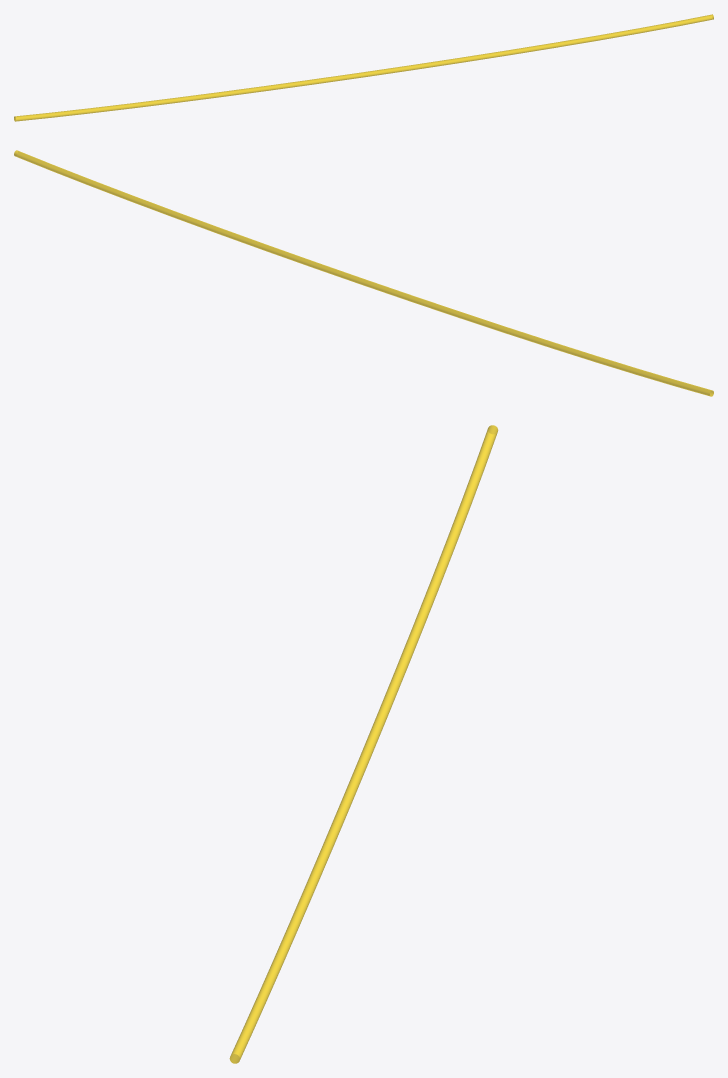
Rendered from Event_84804159_track_57.fbx.
3 renders of one model, top to bottom at view 1: azimuth 30°, elevation 25°; view 2: azimuth 150°, elevation 25°; view 3: azimuth 270°, elevation 25°, orthographic. The views are drawn at different scales.
Parts seen in each view (by area): view 1: Model; view 2: Model; view 3: Model.
Part boxes in pixels (x1,y1,x2,y2): Model: (14,14,713,121); Model: (14,150,713,396); Model: (229,425,498,1063).
Size of the model in its own units: 5.56 by 0.1236 by 1.02.
